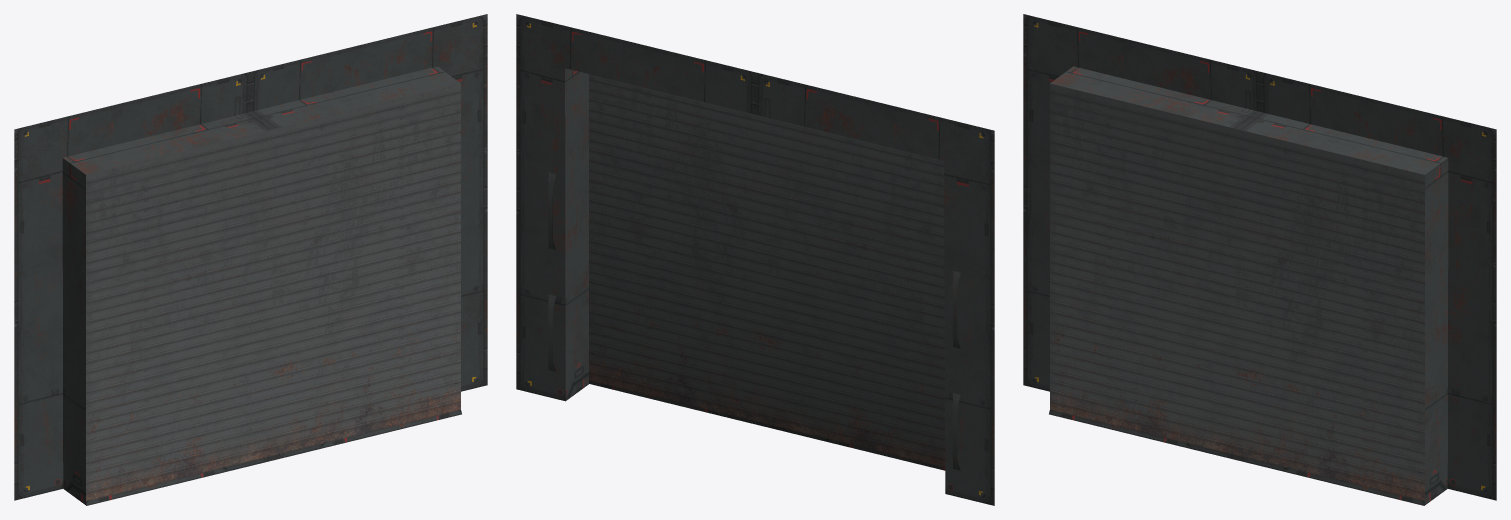
File: ARC0910118.fbx
The picture shows the model from 3 angles, left to right: view 1: azimuth 30°, elevation 25°; view 2: azimuth 150°, elevation 25°; view 3: azimuth 330°, elevation 25°; orthographic projection.
Visible parts, largest first — view 1: smARC0910118; view 2: smARC0910118; view 3: smARC0910118.
Part boxes in pixels (bbox=[...]): smARC0910118: bbox=[14, 14, 487, 505]; smARC0910118: bbox=[516, 14, 994, 505]; smARC0910118: bbox=[1023, 14, 1496, 505].
Size of the model in its own units: 400 by 300 by 38.36.
1 material, 1 textured.
